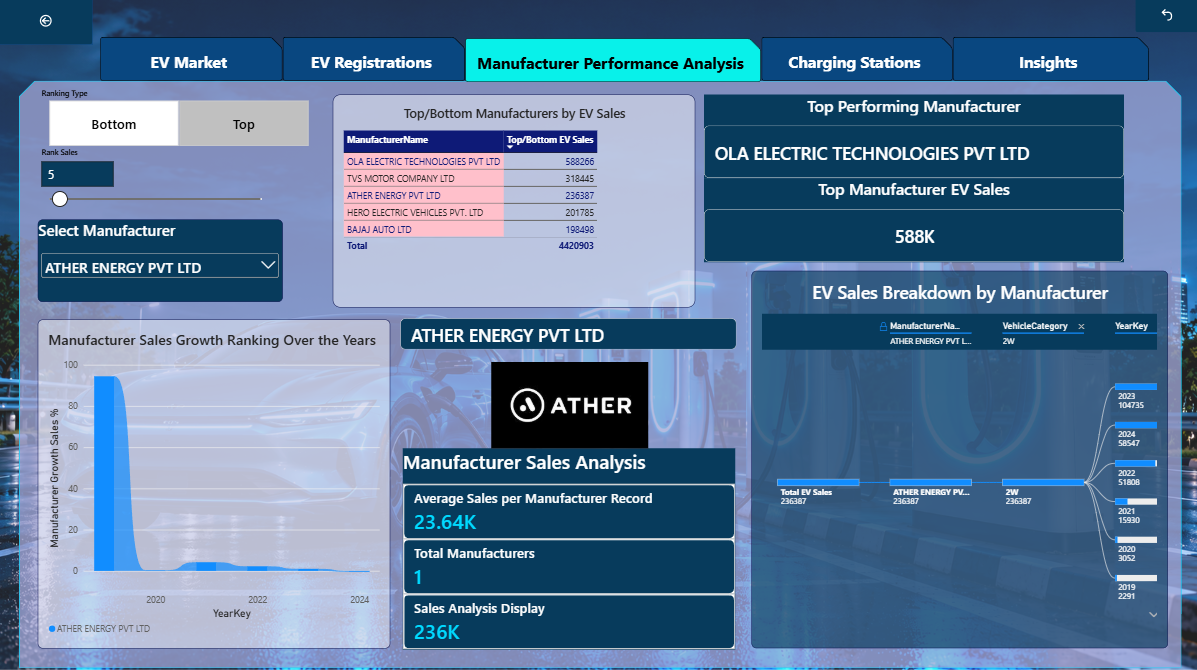

This screenshot's page, from the dashboard's own definition file:
{"tool":"powerbi","page":{"name":"Manufacturer Performance Analysis","canvas":[1920,1080],"ordinal":2},"visuals":[{"type":"shape","box":[32,134,1860,940],"z":0},{"type":"actionButton","box":[0,0,149.3,75.7],"z":1000},{"type":"slicer","fields":{"Values":["Rank Selection.Rank Type"]},"box":[60,146,454,94],"z":2000},{"type":"slicer","fields":{"Values":["Rank Sales.Rank Sales"]},"box":[60.6,240.2,376.6,116.9],"z":3000},{"type":"tableEx","title":"Top/Bottom Manufacturers by EV Sales","fields":{"Values":["DimManufacturer.ManufacturerName","DAX_Measures_Tbl.Manufacturer Rank"]},"box":[533.7,156.4,579.8,340.5],"z":4000},{"type":"actionButton","box":[1818.3,0,101.7,56.7],"z":5000},{"type":"cardVisual","title":"Top Performing Manufacturer","fields":{"Data":["DAX_Measures_Tbl.Top Manufacturer"]},"box":[1128,156,672,134],"z":6000},{"type":"cardVisual","title":"Top Manufacturer EV Sales","fields":{"Data":["DAX_Measures_Tbl.Top Manufacturer Sales"]},"box":[1128,290,672,134],"z":7000},{"type":"ribbonChart","title":"Manufacturer Sales Growth Ranking Over the Years","fields":{"Category":["DimYear.YearKey"],"Series":["DimManufacturer.ManufacturerName"],"Y":["DAX_Measures_Tbl.Manufacturer Growth Sales %"]},"box":[61,516.7,564.4,526.2],"z":8000},{"type":"cardVisual","title":"Manufacturer Sales Analysis","fields":{"Data":["DAX_Measures_Tbl.Average Sales per Manufacturer Record","DAX_Measures_Tbl.Total Manufacturers","DAX_Measures_Tbl.Sales Analysis Display"]},"box":[646,722,532,322],"z":9000},{"type":"slicer","title":"Select Manufacturer","fields":{"Values":["DimManufacturer.ManufacturerName"]},"box":[62,356,391.7,132],"z":10000},{"type":"decompositionTreeVisual","title":"EV Sales Breakdown by Manufacturer","fields":{"Analyze":["DAX_Measures_Tbl.Total EV Sales"],"ExplainBy":["DimManufacturer.ManufacturerName","DimVehicleCategory.VehicleCategory","DimYear.YearKey"]},"box":[1204,438,666,604],"z":11000},{"type":"actionButton","box":[162,64,291.7,70],"z":12000},{"type":"actionButton","box":[454,64,291.7,70],"z":13000},{"type":"actionButton","box":[746,66,473,69.9],"z":14000},{"type":"actionButton","box":[1220,64,306,70],"z":15000},{"type":"actionButton","box":[1526,64,314,70],"z":16000},{"type":"cardVisual","fields":{"Data":["DAX_Measures_Tbl.Selected Manufacturer"]},"box":[642,514,538,50],"z":17000},{"type":"image","box":[646,584,534,138],"z":18000}]}

Visuals, with their boxes on the page's 1920x1080 design canvas (x1, y1, x2, y2). These are canvas units, not pixel positions in the 1197x670 screenshot, which may show the page scaled, cropped or inside an application window:
shape: (32,134,1892,1074)
actionButton: (0,0,149,76)
slicer - Rank Selection.Rank Type: (60,146,514,240)
slicer - Rank Sales.Rank Sales: (61,240,437,357)
"Top/Bottom Manufacturers by EV Sales" tableEx: (534,156,1114,497)
actionButton: (1818,0,1920,57)
"Top Performing Manufacturer" cardVisual: (1128,156,1800,290)
"Top Manufacturer EV Sales" cardVisual: (1128,290,1800,424)
"Manufacturer Sales Growth Ranking Over the Years" ribbonChart: (61,517,625,1043)
"Manufacturer Sales Analysis" cardVisual: (646,722,1178,1044)
"Select Manufacturer" slicer: (62,356,454,488)
"EV Sales Breakdown by Manufacturer" decompositionTreeVisual: (1204,438,1870,1042)
actionButton: (162,64,454,134)
actionButton: (454,64,746,134)
actionButton: (746,66,1219,136)
actionButton: (1220,64,1526,134)
actionButton: (1526,64,1840,134)
cardVisual - DAX_Measures_Tbl.Selected Manufacturer: (642,514,1180,564)
image: (646,584,1180,722)
